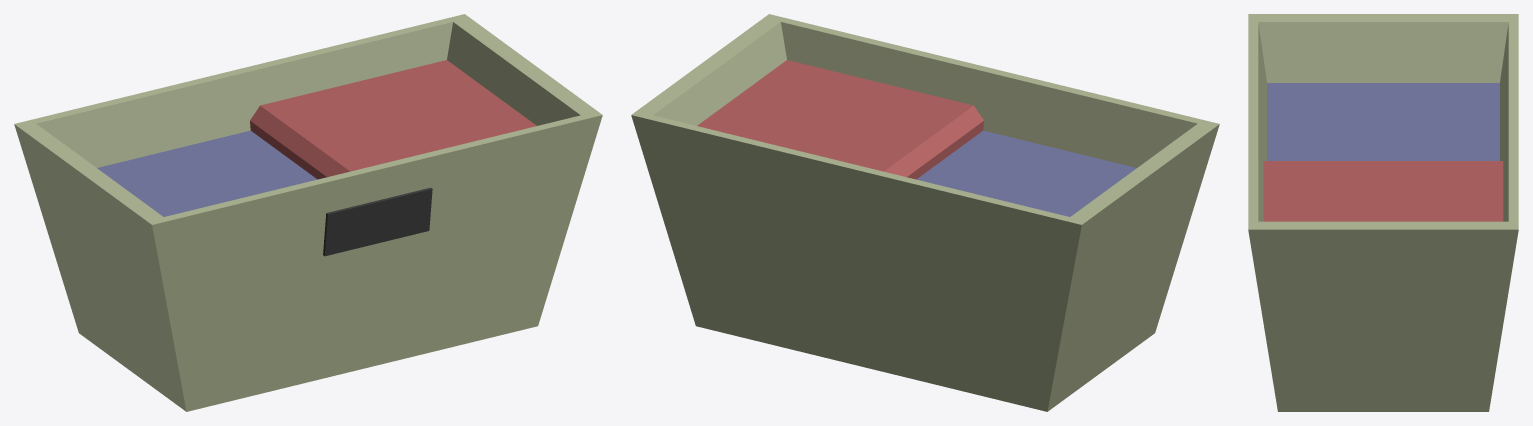
File: Basket_3.fbx
3 views of the same model, side by side, from view 1: azimuth 30°, elevation 25°; view 2: azimuth 150°, elevation 25°; view 3: azimuth 270°, elevation 25° (orthographic). The views are drawn at different scales.
Parts seen in each view (by area): view 1: Basket_3; view 2: Basket_3; view 3: Basket_3.
Boxes of the visible parts, x1=… form: Basket_3: x1=14, y1=14, x2=602, y2=411; Basket_3: x1=631, y1=14, x2=1219, y2=411; Basket_3: x1=1248, y1=14, x2=1518, y2=411.
Bounding box in the file's own units: 60.28 × 31.97 × 26.86.
